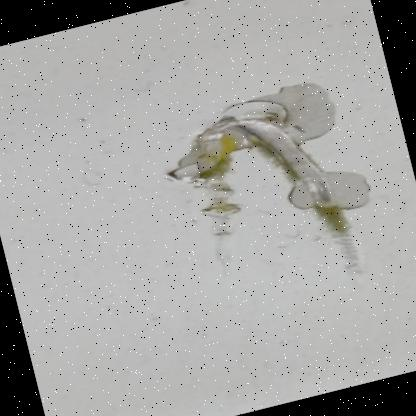Crack: (128, 46, 415, 327)
